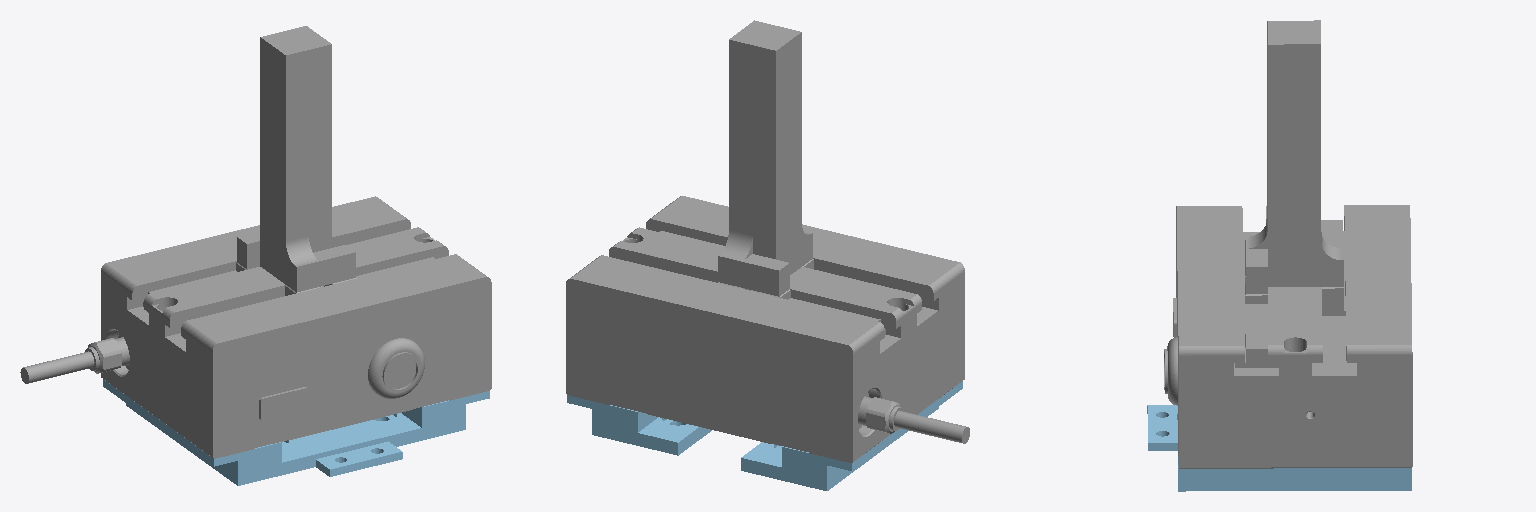
robot.urdf — end_effector:
<?xml version="1.0"?>
<robot name="end_effector">
<link name="ffld_0850ncn30_lksr00_0__6">
<visual>
<origin xyz="0.057499581136592189945 0.0002219151046475575928 0.012999999465240053009" rpy="1.5707963197624172924 -9.3043403012065366432e-09 -3.1383258088491423621" />
<geometry>
<mesh filename="package://hc10_with_hand/meshes/end_effector/ffld_0850ncn30_lksr00_0__6.stl"/>
</geometry>
<material name="ffld_0850ncn30_lksr00_0__6_material">
<color rgba="0.68627450980392157298 0.68627450980392157298 0.68627450980392157298 1.0"/>
</material>
</visual>
<collision>
<origin xyz="0.057499581136592189945 0.0002219151046475575928 0.012999999465240053009" rpy="1.5707963197624172924 -9.3043403012065366432e-09 -3.1383258088491423621" />
<geometry>
<mesh filename="package://hc10_with_hand/meshes/end_effector/ffld_0850ncn30_lksr00_0__6.stl"/>
</geometry>
</collision>
<visual>
<origin xyz="0.05749958580022360155 0.00022191160362493300706 0.51299999946524066363" rpy="1.5707963197624170704 -9.3043400791619201376e-09 -3.138325808849141918" />
<geometry>
<mesh filename="package://hc10_with_hand/meshes/end_effector/support_end_effector.stl"/>
</geometry>
<material name="support_end_effector_material">
<color rgba="0.61568627450980395466 0.81176470588235294379 0.92941176470588238168 1.0"/>
</material>
</visual>
<collision>
<origin xyz="0.05749958580022360155 0.00022191160362493300706 0.51299999946524066363" rpy="1.5707963197624170704 -9.3043400791619201376e-09 -3.138325808849141918" />
<geometry>
<mesh filename="package://hc10_with_hand/meshes/end_effector/support_end_effector.stl"/>
</geometry>
</collision>
<inertial>
<origin xyz="-0.00017124515018543807858 -0.00032649461781921829216 0.030490247070913023553" rpy="0 0 0"/>
<mass value="3.4292542988302696649" />
<inertia ixx="0.0026649603191174243977" ixy="1.9310786724948536671e-05"  ixz="-1.8842537492230146118e-06" iyy="0.0046547440941269481451" iyz="-2.721762450203936949e-05" izz="0.0057258445196087144613" />
</inertial>
</link>

<link name="center_finger">
<inertial>
<origin xyz="0 0 0" rpy="0 0 0" />
<mass value="1e-9" />
<inertia ixx="0" ixy="0" ixz="0" iyy="0" iyz="0" izz="0" />
</inertial>
</link>
<joint name="center_finger_frame" type="fixed">
<origin xyz="-1.1077846809835756314e-07 3.407092089739716112e-05 0.14800000000024016167" rpy="9.3043404330455770657e-09 -7.0324804683672409296e-09 1.5740631715355417608" />
<parent link="ffld_0850ncn30_lksr00_0__6" />
<child link="center_finger" />
<axis xyz="0 0 0"/>
</joint>

<link name="end_effector_center">
<inertial>
<origin xyz="0 0 0" rpy="0 0 0" />
<mass value="1e-9" />
<inertia ixx="0" ixy="0" ixz="0" iyy="0" iyz="0" izz="0" />
</inertial>
</link>
<joint name="end_effector_center_frame" type="fixed">
<origin xyz="1.2125441276045201278e-10 -9.1026602921928656542e-11 0.012999999999999997669" rpy="9.3043401069174907901e-09 -7.0324793788390369411e-09 1.5740631715355455356" />
<parent link="ffld_0850ncn30_lksr00_0__6" />
<child link="end_effector_center" />
<axis xyz="0 0 0"/>
</joint>

<link name="arm_to_hand">
<inertial>
<origin xyz="0 0 0" rpy="0 0 0" />
<mass value="1e-9" />
<inertia ixx="0" ixy="0" ixz="0" iyy="0" iyz="0" izz="0" />
</inertial>
</link>
<joint name="arm_to_hand_frame" type="fixed">
<origin xyz="0 0 0" rpy="7.0324800430257777421e-09 9.3043403012065234083e-09 0.003266844740651022802" />
<parent link="arm_to_hand" />
<child link="ffld_0850ncn30_lksr00_0__6" />
<axis xyz="0 0 0"/>
</joint>

<link name="hand_to_camera">
<inertial>
<origin xyz="0 0 0" rpy="0 0 0" />
<mass value="1e-9" />
<inertia ixx="0" ixy="0" ixz="0" iyy="0" iyz="0" izz="0" />
</inertial>
</link>
<joint name="hand_to_camera_frame" type="fixed">
<origin xyz="-0.0073555144854190873671 -0.044240193231909627491 0.002999999758834949893" rpy="7.0324804106860020408e-09 9.3043403012065366432e-09 0.0032668447406510223684" />
<parent link="ffld_0850ncn30_lksr00_0__6" />
<child link="hand_to_camera" />
<axis xyz="0 0 0"/>
</joint>

<link name="ffld_0850ncn30_lksr00_0__3">
<visual>
<origin xyz="-0.013499999999999998113 -0.012699999999999996014 0.0097999999999999459072" rpy="1.570796326794896558 1.570796326794896336 0" />
<geometry>
<mesh filename="package://hc10_with_hand/meshes/end_effector/ffld_0850ncn30_lksr00_0__3.stl"/>
</geometry>
<material name="ffld_0850ncn30_lksr00_0__3_material">
<color rgba="0.68627450980392157298 0.68627450980392157298 0.68627450980392157298 1.0"/>
</material>
</visual>
<collision>
<origin xyz="-0.013499999999999998113 -0.012699999999999996014 0.0097999999999999459072" rpy="1.570796326794896558 1.570796326794896336 0" />
<geometry>
<mesh filename="package://hc10_with_hand/meshes/end_effector/ffld_0850ncn30_lksr00_0__3.stl"/>
</geometry>
</collision>
<inertial>
<origin xyz="0.026010155325234741996 -0.0047355803699542925456 -0.003214113833324977812" rpy="0 0 0"/>
<mass value="0.19285564776873392878" />
<inertia ixx="5.5202859436152247683e-05" ixy="-2.9112780924458249069e-05"  ixz="-5.23746968336353535e-05" iyy="0.00024511850474100843611" iyz="-1.2232725957805765321e-05" izz="0.00021268038410786007817" />
</inertial>
</link>

<joint name="fing1" type="prismatic">
<origin xyz="-1.1161792179241458722e-07 3.4071551081503448355e-05 0.058000000000239609887" rpy="0.0032668447406510748438 -1.5707963151318564687 0" />
<parent link="ffld_0850ncn30_lksr00_0__6" />
<child link="ffld_0850ncn30_lksr00_0__3" />
<axis xyz="0 0 1"/>
<limit effort="1" velocity="20" lower="0" upper="0.050000000000000002776"/>
<joint_properties friction="0.0"/>
</joint>

<link name="ffld_0850ncn30_lksr00_0__3_2">
<visual>
<origin xyz="-0.013499999999999998113 -0.012699999999999997749 0.0097999999999999476419" rpy="1.570796326794896558 1.570796326794896336 0" />
<geometry>
<mesh filename="package://hc10_with_hand/meshes/end_effector/ffld_0850ncn30_lksr00_0__3.stl"/>
</geometry>
<material name="ffld_0850ncn30_lksr00_0__3_material">
<color rgba="0.68627450980392157298 0.68627450980392157298 0.68627450980392157298 1.0"/>
</material>
</visual>
<collision>
<origin xyz="-0.013499999999999998113 -0.012699999999999997749 0.0097999999999999476419" rpy="1.570796326794896558 1.570796326794896336 0" />
<geometry>
<mesh filename="package://hc10_with_hand/meshes/end_effector/ffld_0850ncn30_lksr00_0__3.stl"/>
</geometry>
</collision>
<inertial>
<origin xyz="0.026010155325234741996 -0.0047355803699542942803 -0.0032141138333249760772" rpy="0 0 0"/>
<mass value="0.19285564776873392878" />
<inertia ixx="5.5202859436152247683e-05" ixy="-2.9112780924458249069e-05"  ixz="-5.23746968336353535e-05" iyy="0.00024511850474100843611" iyz="-1.2232725957805765321e-05" izz="0.00021268038410786007817" />
</inertial>
</link>

<joint name="fing2" type="prismatic">
<origin xyz="-1.1161792179588403418e-07 3.4071551081512121972e-05 0.058000000000239672338" rpy="-3.1383258088491423621 -1.5707963151318573569 0" />
<parent link="ffld_0850ncn30_lksr00_0__6" />
<child link="ffld_0850ncn30_lksr00_0__3_2" />
<axis xyz="0 0 1"/>
<limit effort="1" velocity="20" lower="0" upper="0.050000000000000002776"/>
<joint_properties friction="0.0"/>
</joint>


</robot>

--- Facts derived from the render (not from the file) ---
3 views of the same robot in one strip: view 1: azimuth 30°, elevation 25°; view 2: azimuth 150°, elevation 25°; view 3: azimuth 270°, elevation 25° (orthographic).
Robot: end_effector — 7 links, 6 joints (2 prismatic, 4 fixed); root link arm_to_hand; default pose: every joint at zero.
Links seen in each view (by area): view 1: ffld_0850ncn30_lksr00_0__6, ffld_0850ncn30_lksr00_0__3, ffld_0850ncn30_lksr00_0__3_2; view 2: ffld_0850ncn30_lksr00_0__6, ffld_0850ncn30_lksr00_0__3, ffld_0850ncn30_lksr00_0__3_2; view 3: ffld_0850ncn30_lksr00_0__6, ffld_0850ncn30_lksr00_0__3_2, ffld_0850ncn30_lksr00_0__3.
Boxes of the visible links, x1,y1,x2,y2 form: ffld_0850ncn30_lksr00_0__6: (20, 196, 491, 485); ffld_0850ncn30_lksr00_0__3: (260, 31, 434, 295); ffld_0850ncn30_lksr00_0__3_2: (143, 26, 331, 306); ffld_0850ncn30_lksr00_0__6: (566, 196, 969, 490); ffld_0850ncn30_lksr00_0__3: (660, 26, 813, 274); ffld_0850ncn30_lksr00_0__3_2: (718, 20, 885, 334); ffld_0850ncn30_lksr00_0__6: (1147, 205, 1412, 491); ffld_0850ncn30_lksr00_0__3_2: (1268, 32, 1345, 315); ffld_0850ncn30_lksr00_0__3: (1235, 20, 1320, 367).
Size in the robot's own frame: 0.1538 by 0.089 by 0.148 metres.
4 mesh visuals loaded from 3 distinct referenced files (3 binary STL).